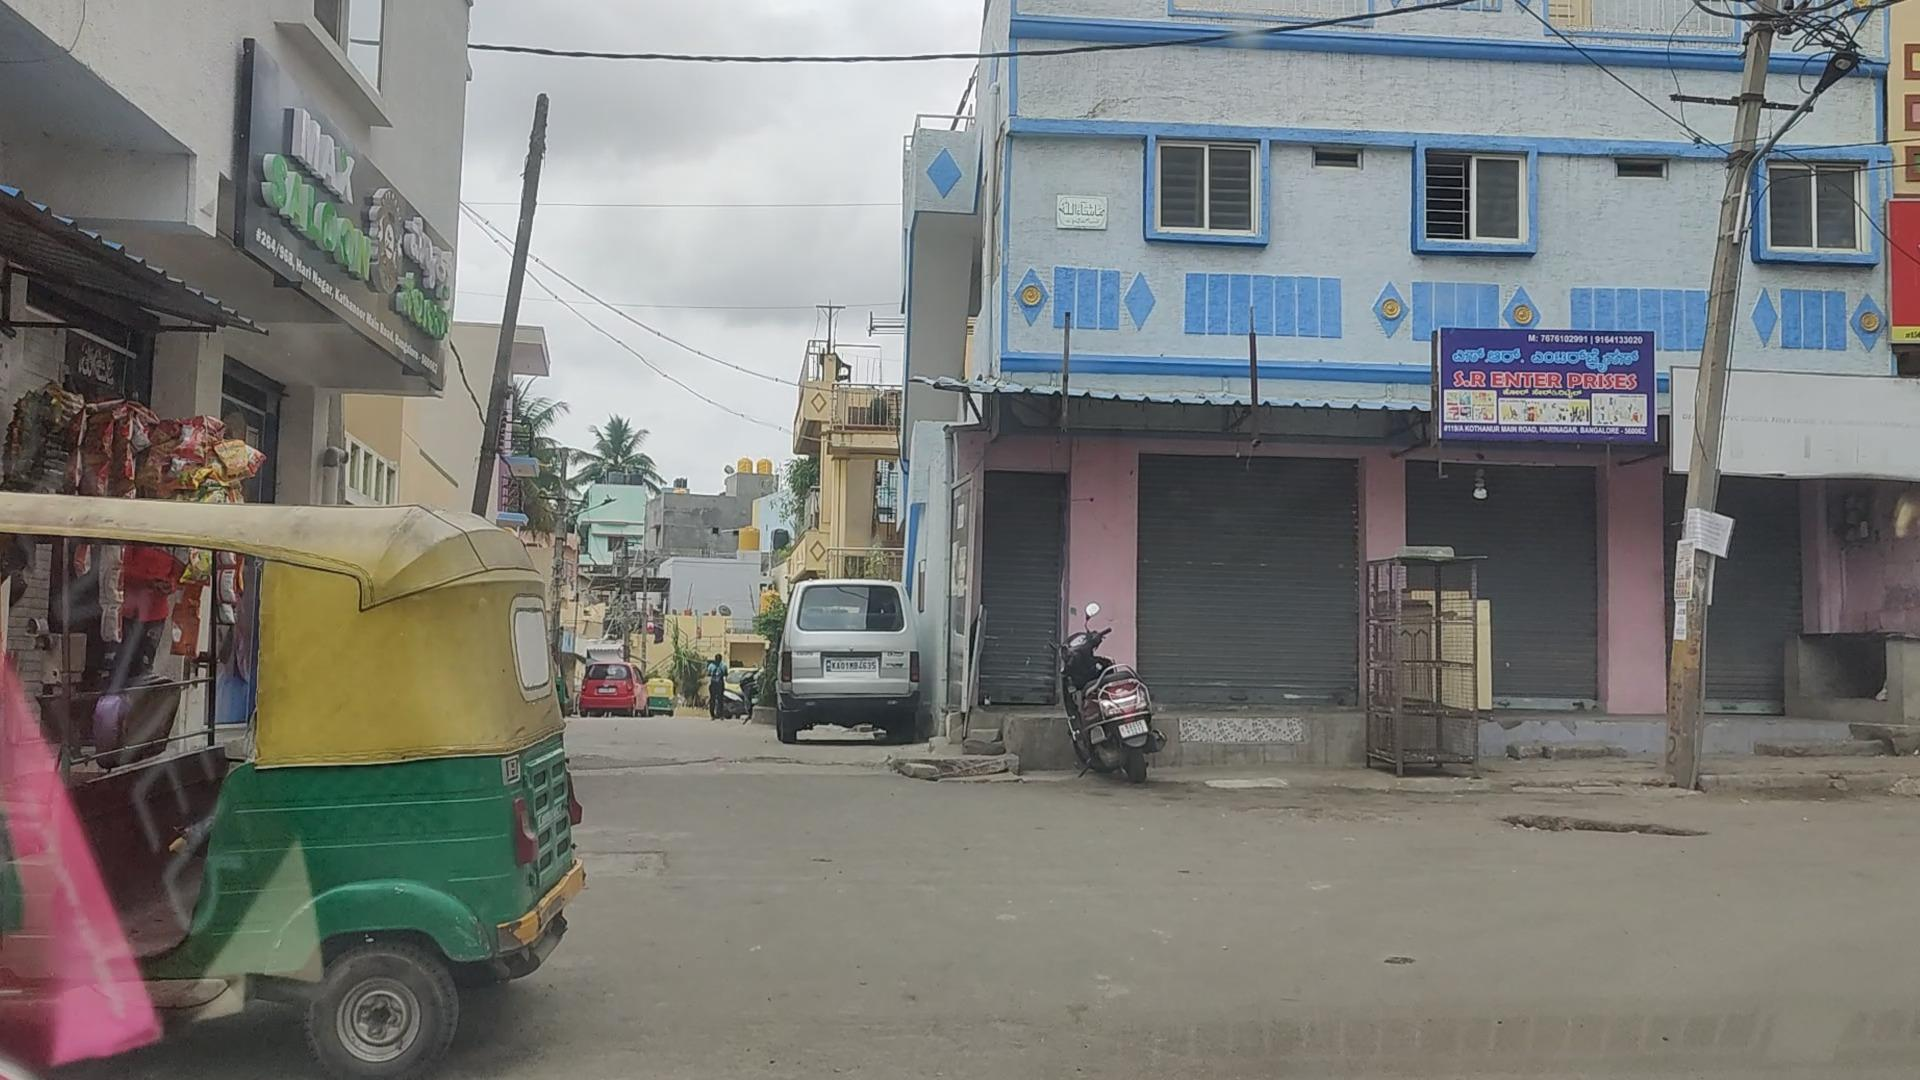RoadDamages: (1507, 798, 1721, 866), (585, 829, 680, 887)
